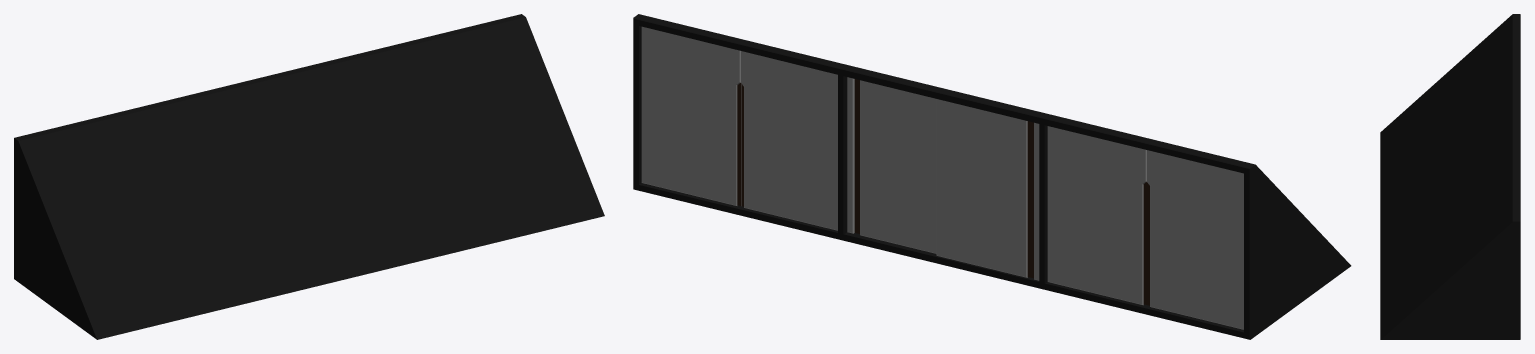
File: h-005_wardrobe_02_F.FBX
3 views of the same model, side by side, from view 1: azimuth 30°, elevation 25°; view 2: azimuth 150°, elevation 25°; view 3: azimuth 270°, elevation 25° (orthographic). The views are drawn at different scales.
Parts seen in each view (by area): view 1: h-005_wardrobe_02_frame; view 2: h-005_wardrobe_02_frame, h-005_wardrobe_02_door02_R, h-005_wardrobe_02_door01_01_L, h-005_wardrobe_02_door01_02_L, h-005_wardrobe_02_door01_02_R, h-005_wardrobe_02_door01_01_R, h-005_wardrobe_02_door02_L; view 3: h-005_wardrobe_02_frame.
Part boxes in pixels (x1,y1,x2,y2): h-005_wardrobe_02_frame: (14,14,604,339); h-005_wardrobe_02_frame: (633,14,1351,339); h-005_wardrobe_02_door02_R: (936,99,1039,280); h-005_wardrobe_02_door01_01_L: (641,26,741,206); h-005_wardrobe_02_door01_02_L: (1047,126,1147,305); h-005_wardrobe_02_door01_02_R: (1147,150,1243,329); h-005_wardrobe_02_door01_01_R: (741,51,837,230); h-005_wardrobe_02_door02_L: (847,77,936,253); h-005_wardrobe_02_frame: (1380,14,1520,339).
Size of the model in its own units: 95.8 by 25.46 by 27.3.
